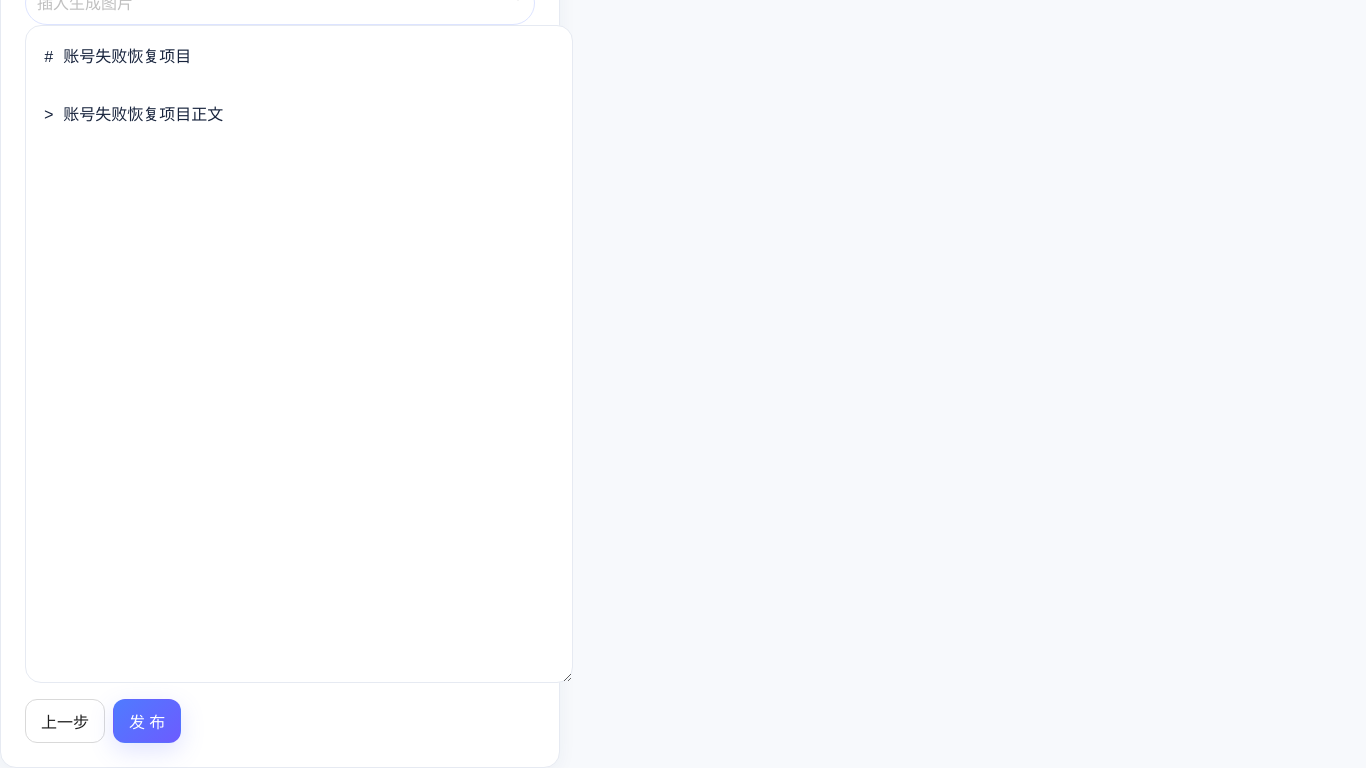
Scenario: Creator publishing › keeps an existing job when account restore fails and refreshes accounts independently
(page scrolled)
Click the button "发 布". click: (147,721)
box: [113,699,181,743]
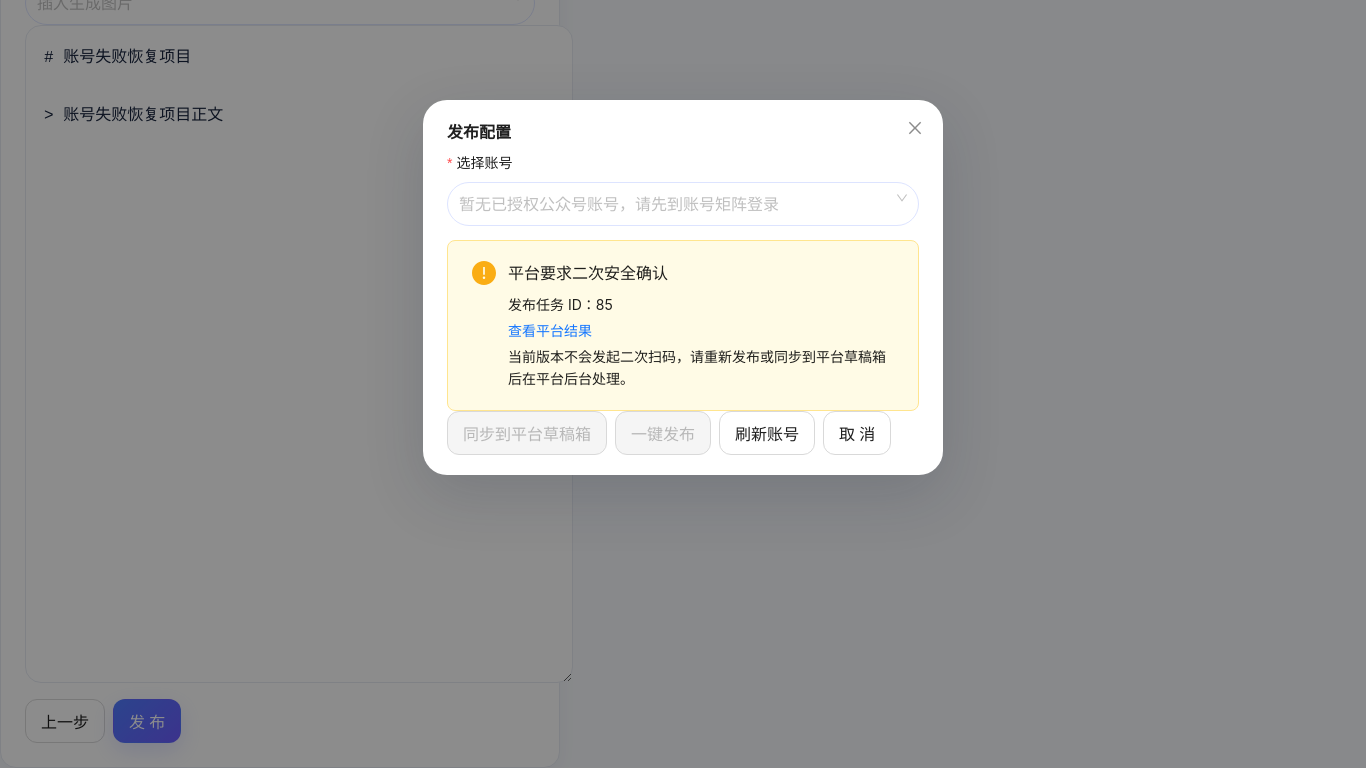
expect the text "平台要求二次安全确认" is shown: met, box [508,263,668,283]
expect the text "发布任务 ID：85" is shown: met, box [508,296,613,313]
Click the button "刷新账号". click: (767,433)
box: [719,411,815,455]
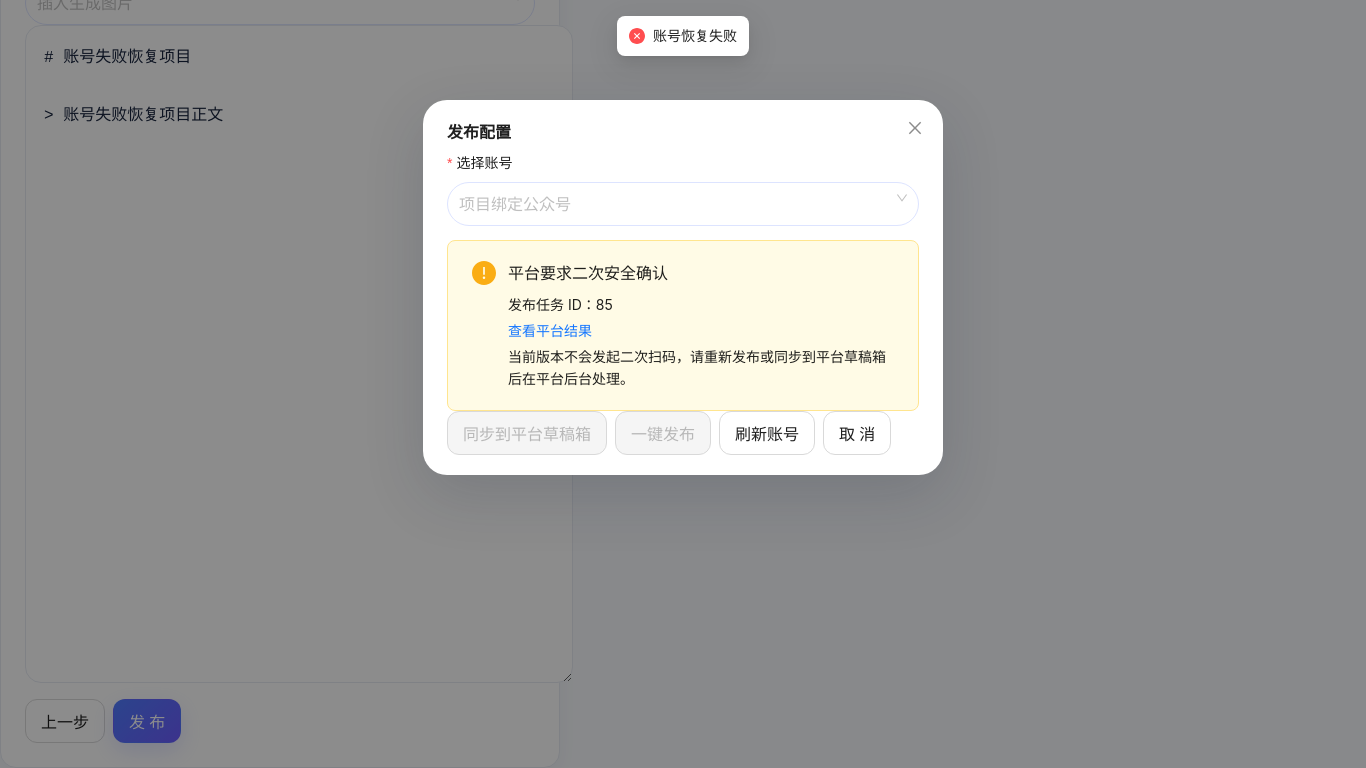
expect the text "发布任务 ID：85" is shown: met, box [508,296,613,313]
expect the text "项目绑定公众号" is shown: met, box [459,194,571,214]
